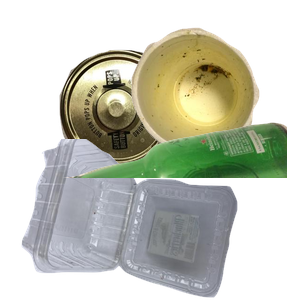glass: (60, 120, 300, 300)
metal: (57, 47, 227, 211)
plastic: (19, 139, 249, 300)
trash: (129, 25, 300, 173)
